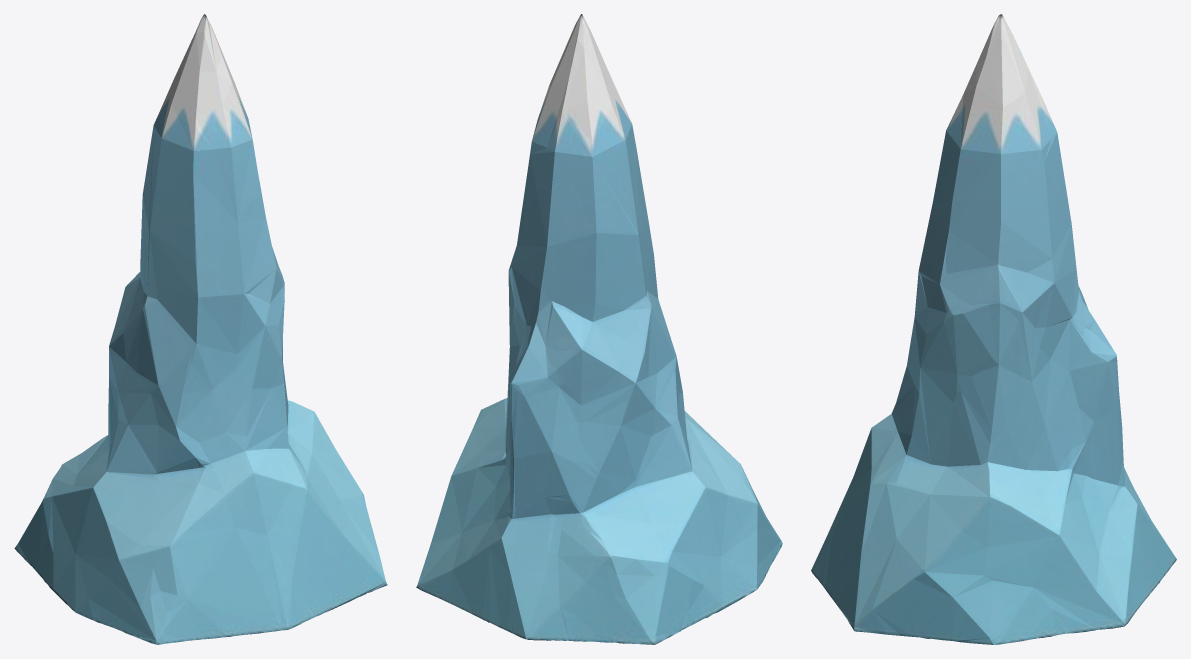
The model's file is givre_pilier_glace.glb.
3 views of the same model, side by side, from view 1: azimuth 30°, elevation 25°; view 2: azimuth 150°, elevation 25°; view 3: azimuth 270°, elevation 25° (orthographic). The views are drawn at different scales.
Parts seen in each view (by area): view 1: geometry_0; view 2: geometry_0; view 3: geometry_0.
Boxes of the visible parts, <box> form: geometry_0: <box>14,14,387,644</box>; geometry_0: <box>416,14,782,644</box>; geometry_0: <box>811,14,1176,644</box>.
Size of the model in its own units: 0.5489 by 0.9857 by 0.5816.
1 material, 1 textured.
